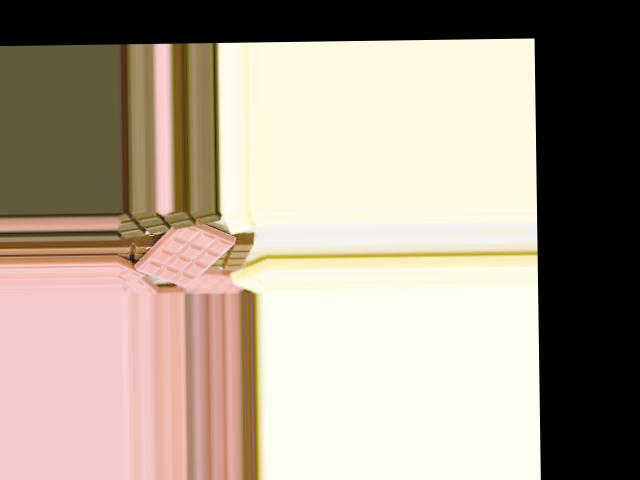chocolate: (133, 209, 234, 290)
